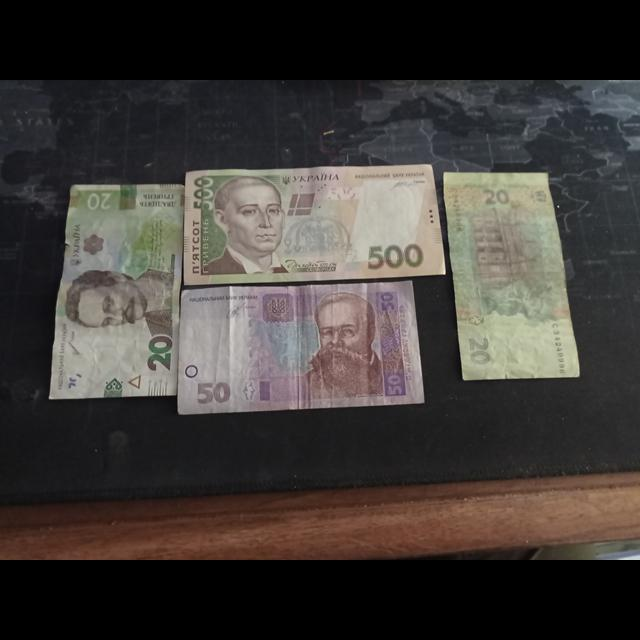20uah: (48, 184, 184, 400), (441, 173, 581, 381)
500uah: (184, 161, 447, 287)
50uah: (177, 279, 425, 416)
